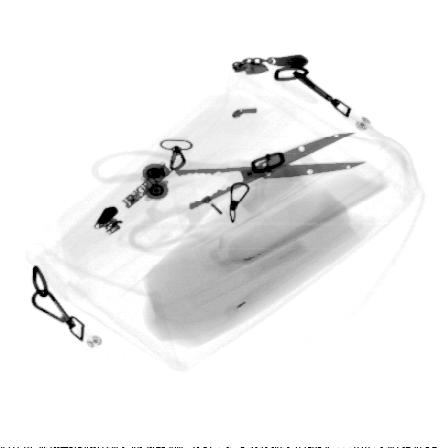Scissors: (88, 130, 369, 250)
